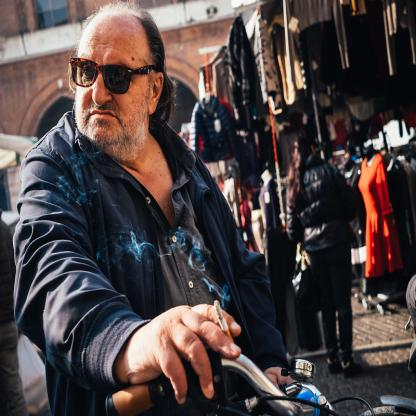smoking: (214, 300, 235, 350)
